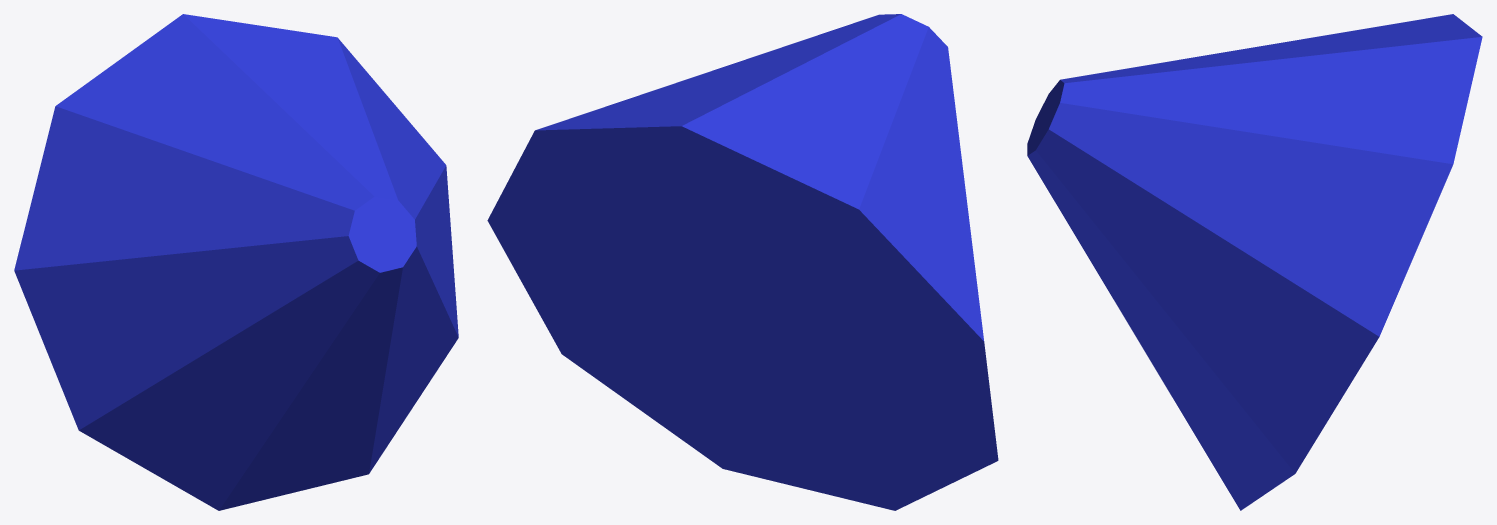
3 renders of one model, left to right at view 1: azimuth 30°, elevation 25°; view 2: azimuth 150°, elevation 25°; view 3: azimuth 270°, elevation 25°, orthographic. The views are drawn at different scales.
Visible parts, largest first — view 1: Cone; view 2: Cone; view 3: Cone.
Part boxes in pixels (bbox=[...]): Cone: bbox=[14, 14, 458, 510]; Cone: bbox=[487, 14, 998, 510]; Cone: bbox=[1027, 14, 1482, 510].
Size of the model in its own units: 1.27 by 1.06 by 1.12.
